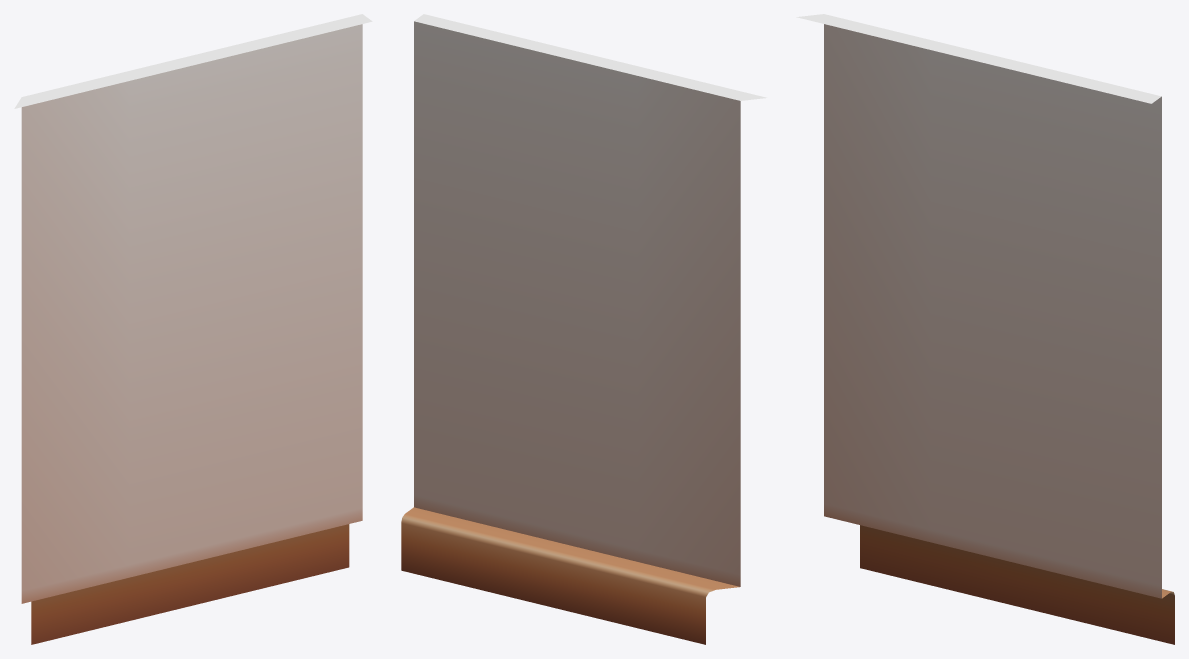
File: WhiteWall_RightCorner.fbx
The picture shows the model from 3 angles, left to right: view 1: azimuth 30°, elevation 25°; view 2: azimuth 150°, elevation 25°; view 3: azimuth 330°, elevation 25°; orthographic projection. The views are drawn at different scales.
Visible parts, largest first — view 1: WhiteWall_RightCorner; view 2: WhiteWall_RightCorner; view 3: WhiteWall_RightCorner.
Boxes of the visible parts, x1,y1,x2,y2 form: WhiteWall_RightCorner: [14, 14, 372, 644]; WhiteWall_RightCorner: [401, 14, 766, 644]; WhiteWall_RightCorner: [796, 14, 1174, 644].
Bounding box in the file's own units: 3 × 2 × 0.2276.
